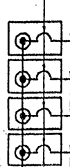Single Phase Tap-Off Unit: (6, 19, 66, 57), (6, 58, 65, 96), (3, 131, 64, 167), (5, 95, 63, 132)
